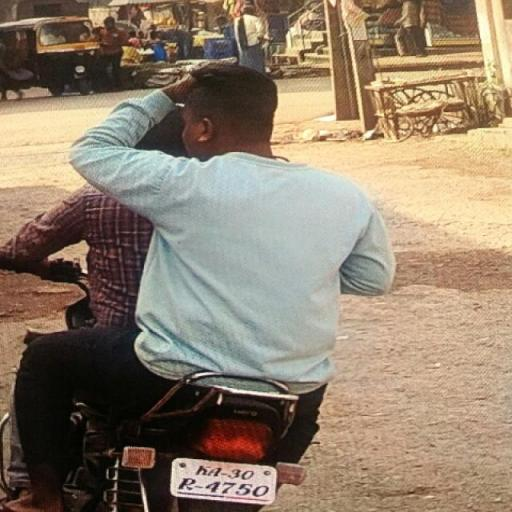bike: (8, 56, 402, 512)
numberplate: (170, 458, 278, 510)
withouthelmet: (183, 64, 277, 151)
